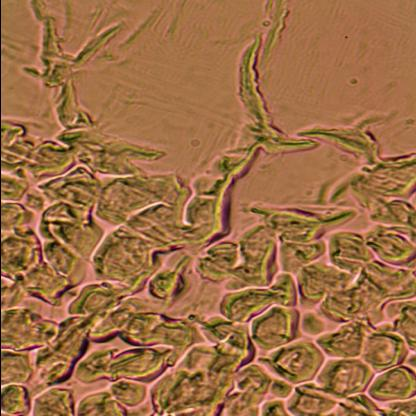Stage III: (0, 163, 416, 416)
